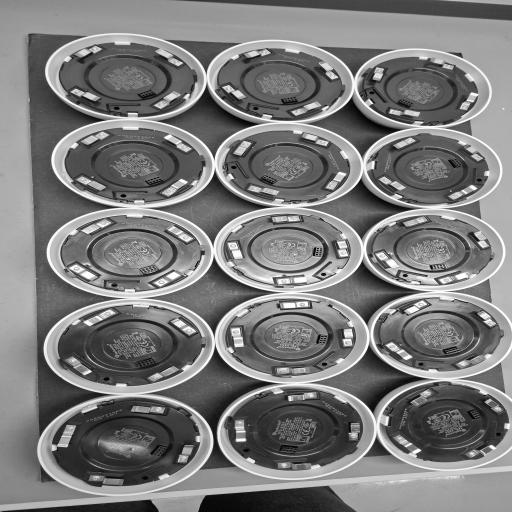konnektor: (134, 357, 158, 368), (150, 444, 170, 457), (310, 245, 326, 259), (467, 408, 483, 422), (312, 333, 329, 346), (278, 444, 300, 454), (256, 175, 280, 184), (278, 95, 300, 104), (137, 88, 156, 98), (139, 264, 158, 274), (145, 176, 163, 186), (443, 345, 460, 355), (448, 157, 463, 168), (398, 99, 415, 108), (429, 264, 449, 270)
yaysiz: (152, 46, 190, 68), (82, 308, 120, 328), (63, 355, 96, 377), (146, 364, 182, 384), (384, 341, 416, 363), (393, 434, 424, 456), (80, 217, 114, 237), (67, 263, 101, 283), (154, 267, 186, 288), (446, 182, 479, 202), (163, 224, 196, 244), (462, 441, 498, 459), (161, 134, 193, 154), (69, 87, 104, 105), (54, 424, 80, 448), (75, 174, 109, 192), (168, 317, 198, 337), (386, 107, 428, 121), (435, 270, 474, 285), (291, 101, 327, 117), (456, 352, 488, 370), (162, 178, 192, 197), (374, 250, 402, 270), (376, 174, 407, 192), (154, 91, 183, 110), (470, 309, 499, 328), (71, 44, 105, 60), (297, 132, 331, 148), (78, 131, 112, 147), (408, 387, 435, 407), (246, 184, 284, 198), (316, 60, 340, 82), (397, 300, 430, 316), (325, 170, 349, 191), (468, 230, 493, 250), (233, 419, 252, 445), (129, 403, 170, 415), (221, 84, 248, 102), (459, 144, 486, 162), (427, 56, 457, 72), (458, 91, 482, 111), (87, 474, 127, 486), (482, 396, 506, 416), (272, 274, 314, 285), (175, 442, 196, 464), (232, 139, 254, 159), (226, 240, 246, 262), (228, 326, 247, 349), (283, 391, 319, 403), (392, 136, 420, 151), (272, 366, 313, 376), (277, 460, 317, 470), (242, 48, 274, 60), (332, 238, 350, 259), (339, 326, 355, 349), (401, 216, 431, 228), (274, 301, 313, 310), (370, 66, 388, 84), (347, 420, 361, 442), (269, 215, 303, 224)
